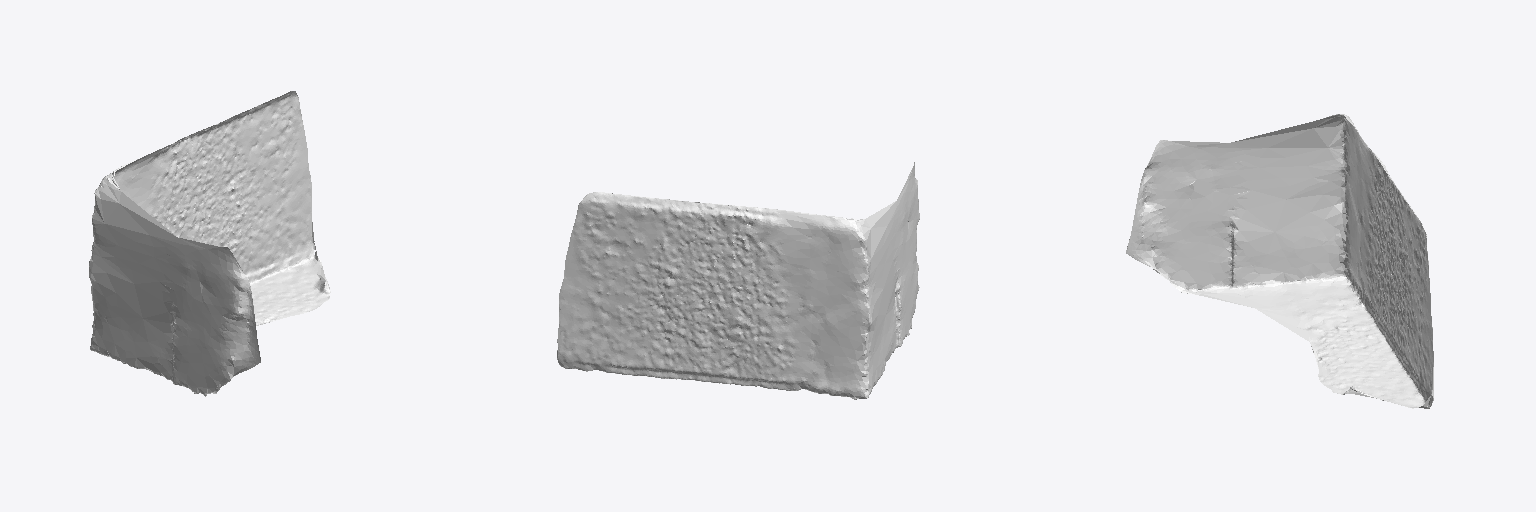
File: Scaniverse_2025_05_01_175146.obj
3 renders of one model, left to right at view 1: azimuth 30°, elevation 25°; view 2: azimuth 150°, elevation 25°; view 3: azimuth 270°, elevation 25°, orthographic.
Parts seen in each view (by area): view 1: mesh; view 2: mesh; view 3: mesh.
Part boxes in pixels (left/top/right/bottom): mesh: left=89, top=91, right=330, bottom=396; mesh: left=557, top=162, right=919, bottom=399; mesh: left=1126, top=114, right=1433, bottom=408.
Size of the model in its own units: 2.41 by 1.54 by 2.39.